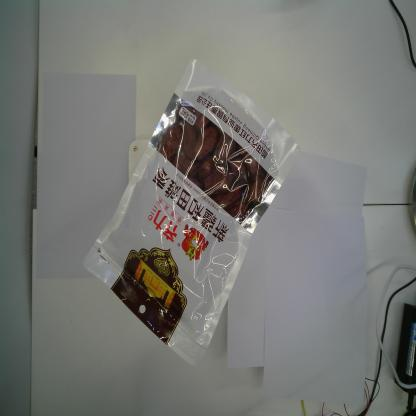Dried Food: (81, 54, 303, 371)
